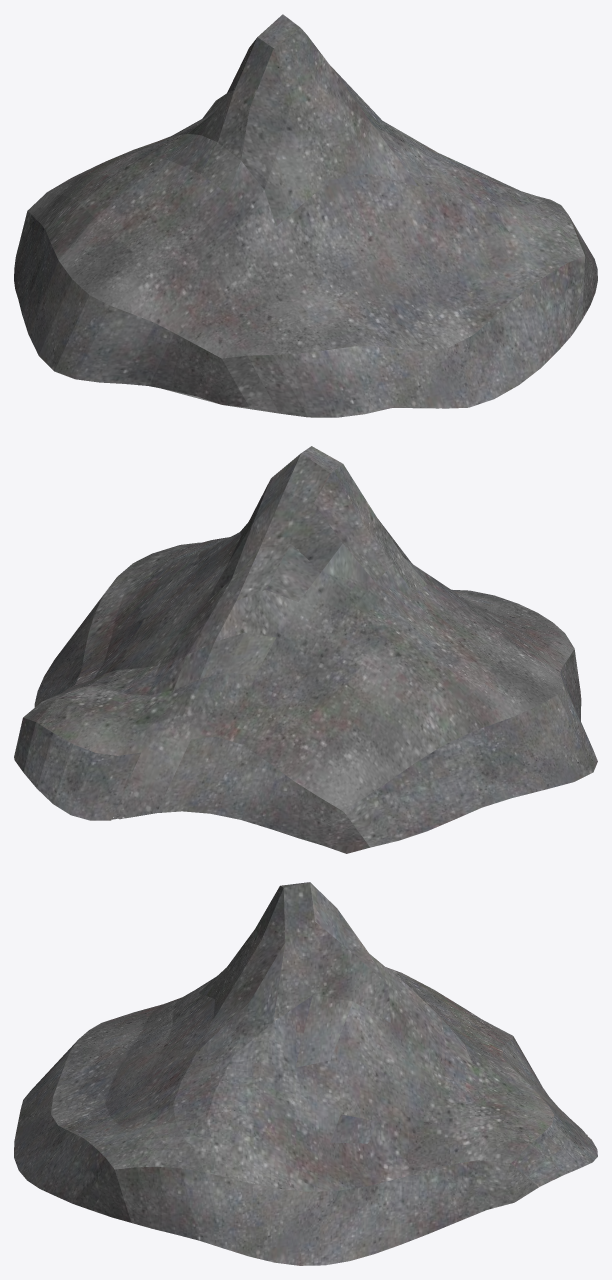
Rendered from Pile.fbx.
3 views of the same model, one above another, from view 1: azimuth 30°, elevation 25°; view 2: azimuth 150°, elevation 25°; view 3: azimuth 270°, elevation 25° (orthographic). The views are drawn at different scales.
Visible parts, largest first — view 1: Plane; view 2: Plane; view 3: Plane.
Part boxes in pixels (left/top/right/bottom): Plane: left=14, top=14, right=597, bottom=417; Plane: left=14, top=446, right=597, bottom=853; Plane: left=14, top=882, right=597, bottom=1265.
Bounding box in the file's own units: 268 × 143 × 280.
